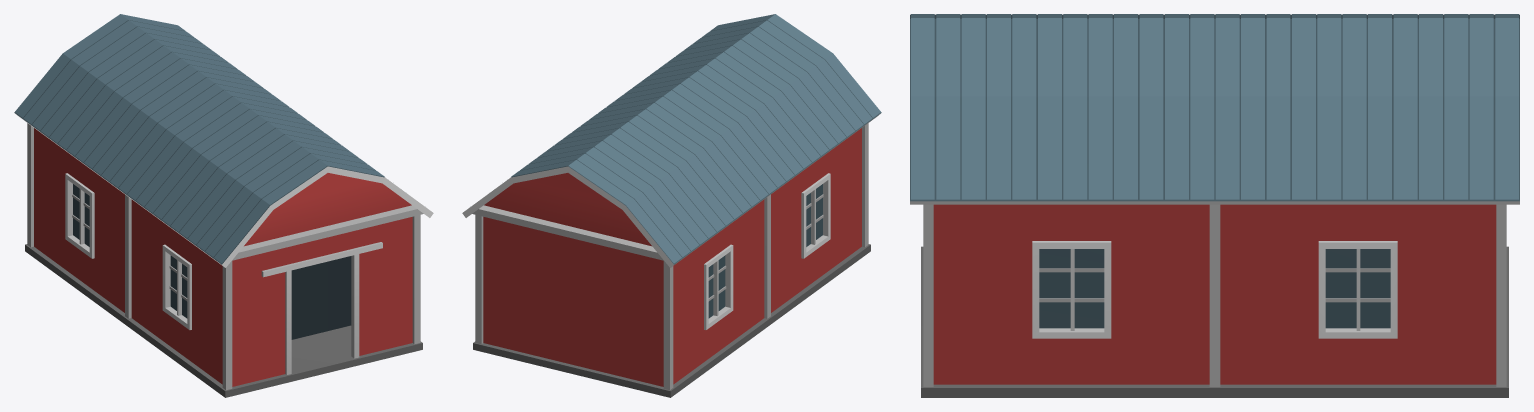
File: hangar_003.glb
The picture shows the model from 3 angles, left to right: view 1: azimuth 30°, elevation 25°; view 2: azimuth 150°, elevation 25°; view 3: azimuth 270°, elevation 25°; orthographic projection. The views are drawn at different scales.
Visible parts, largest first — view 1: hangar_003; view 2: hangar_003; view 3: hangar_003.
Part boxes in pixels (left/top/right/bottom): hangar_003: left=14, top=14, right=433, bottom=397; hangar_003: left=462, top=14, right=881, bottom=397; hangar_003: left=910, top=14, right=1519, bottom=397.
Bounding box in the file's own units: 5.95 × 5.65 × 10.1.
Materials: 1 (1 with a texture image).
